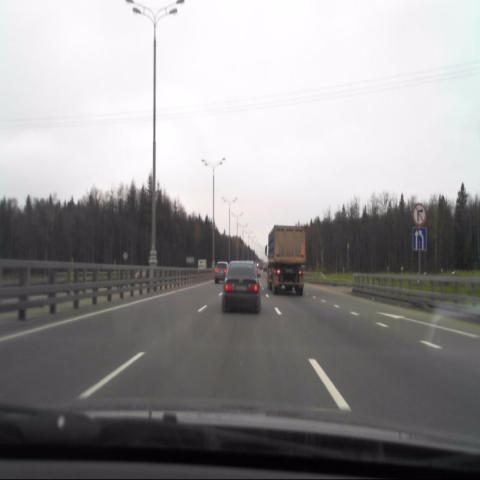3_18: (412, 202, 426, 226)
5_15_5: (412, 228, 427, 251)
